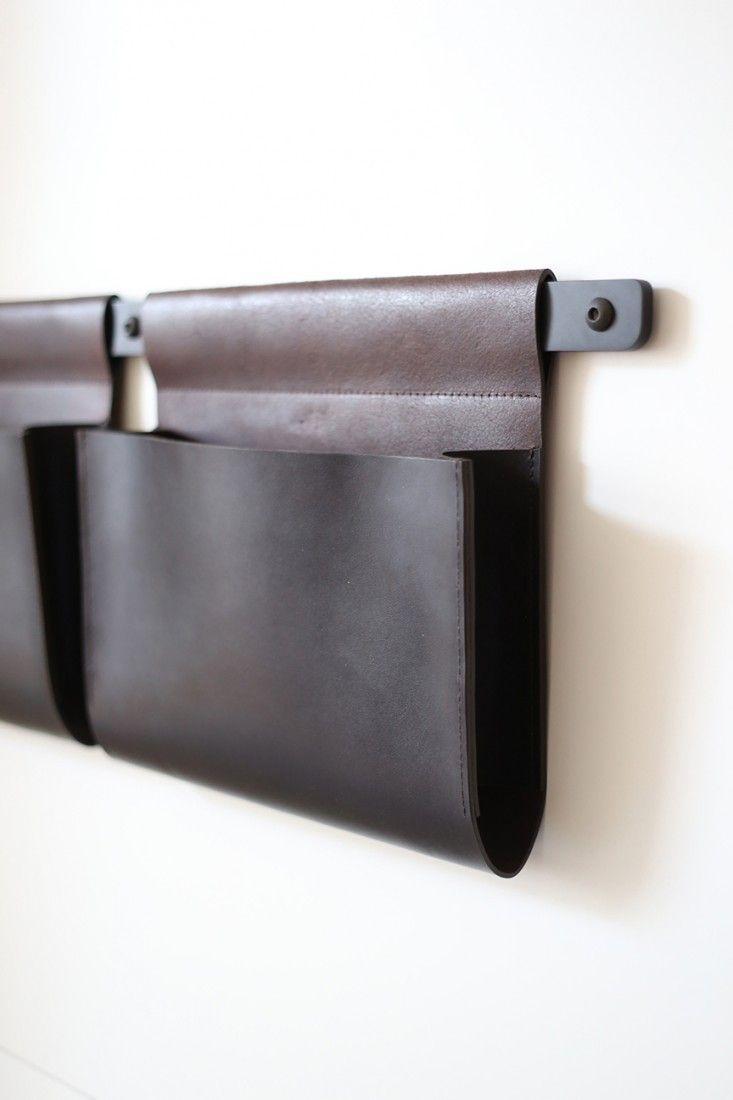cuero: (2, 270, 558, 880)
